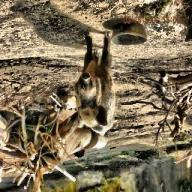boar: (72, 31, 116, 137)
